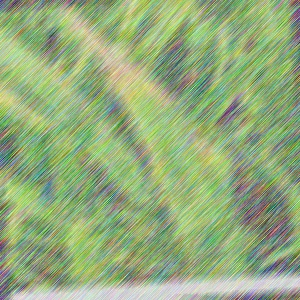Leaf_Blast: (112, 20, 213, 241)
